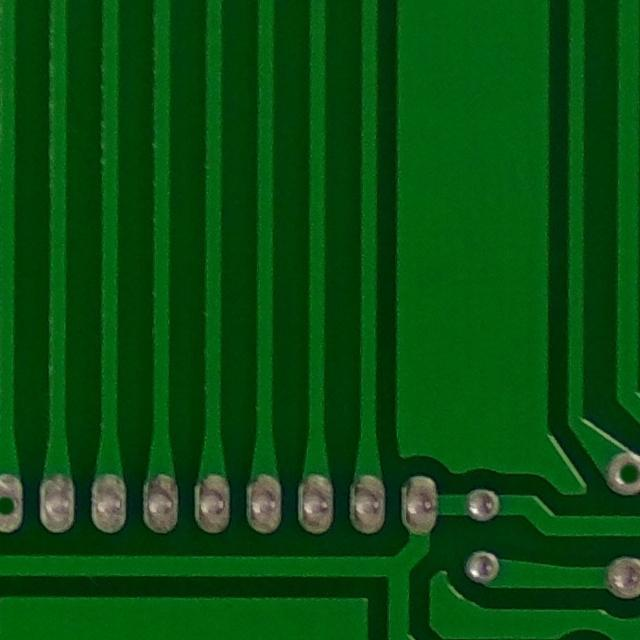missing_hole: (598, 441, 640, 503), (0, 474, 35, 537)
